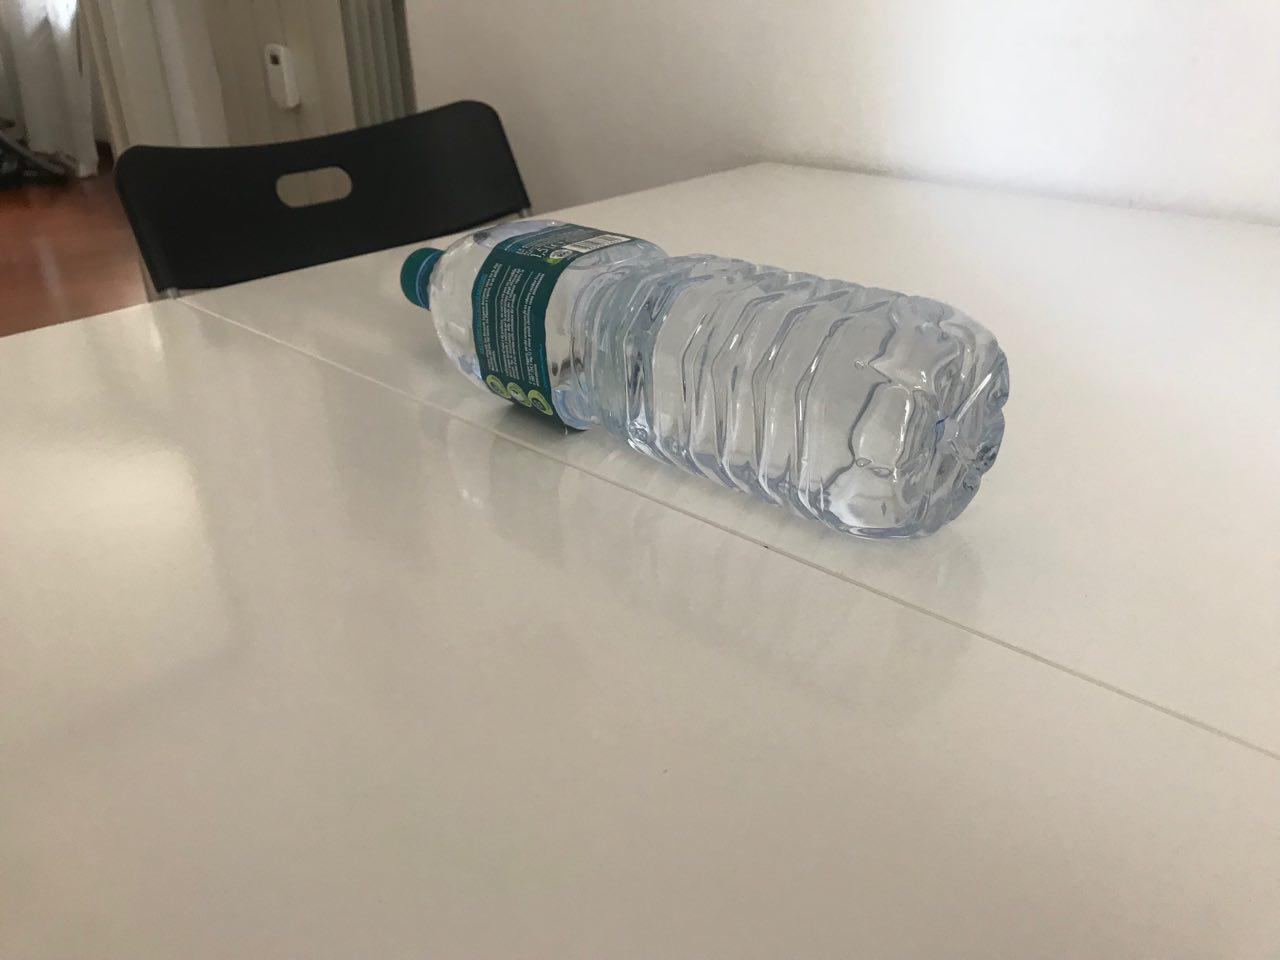san_bernardo: (398, 216, 1012, 541)
